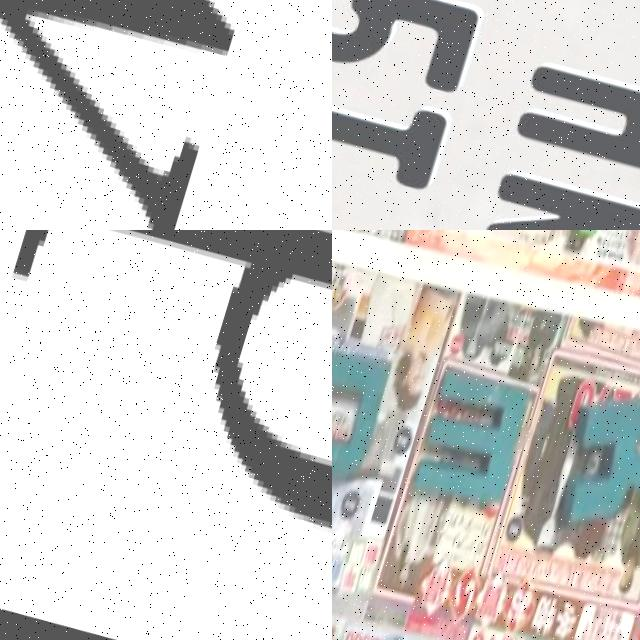5: (332, 0, 486, 103)
D: (332, 328, 398, 492)
H: (509, 55, 640, 208)
K: (550, 376, 640, 547), (472, 162, 640, 230)
M: (408, 364, 536, 516)
P: (86, 230, 332, 535)
T: (332, 43, 455, 202)
W: (0, 0, 332, 230)
